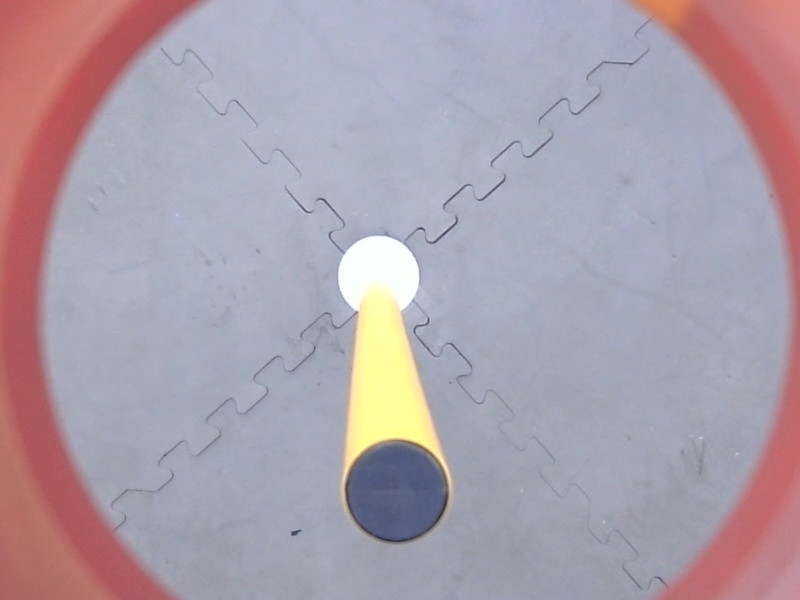tip: (335, 433, 458, 552)
